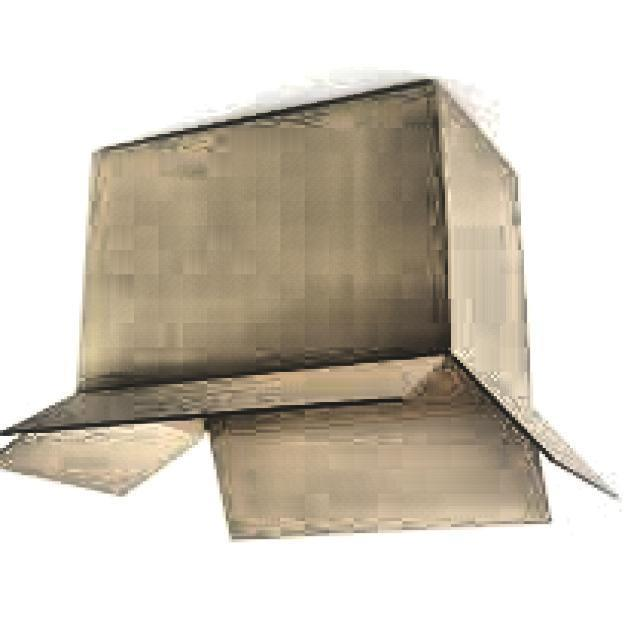cardboard: (0, 79, 619, 546)
